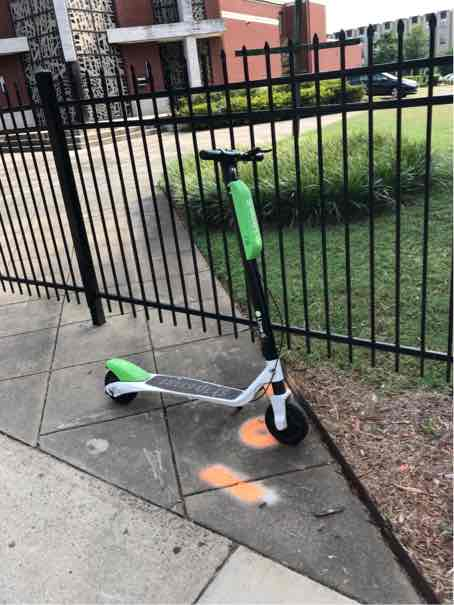scooter: (92, 128, 306, 450)
